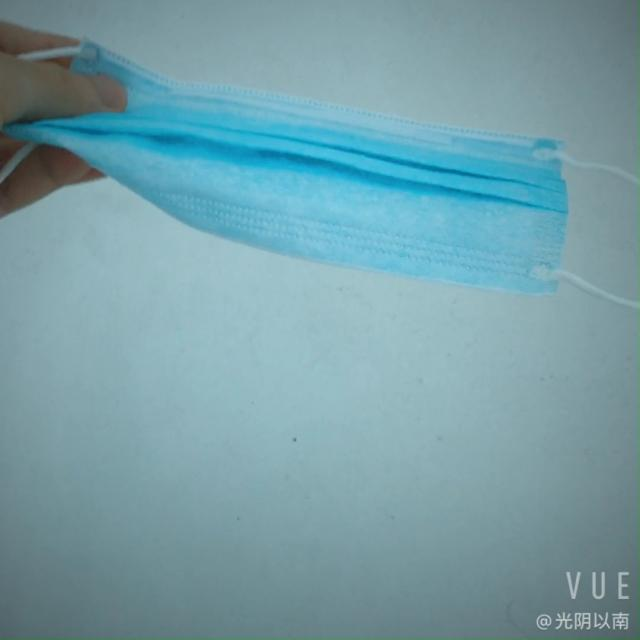non-organic waste: (97, 109, 548, 283)
